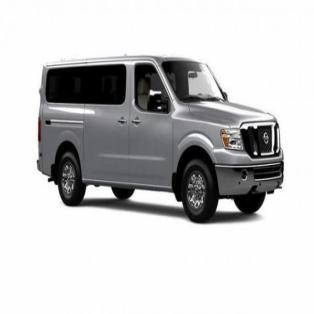Auto: (37, 56, 284, 227)
